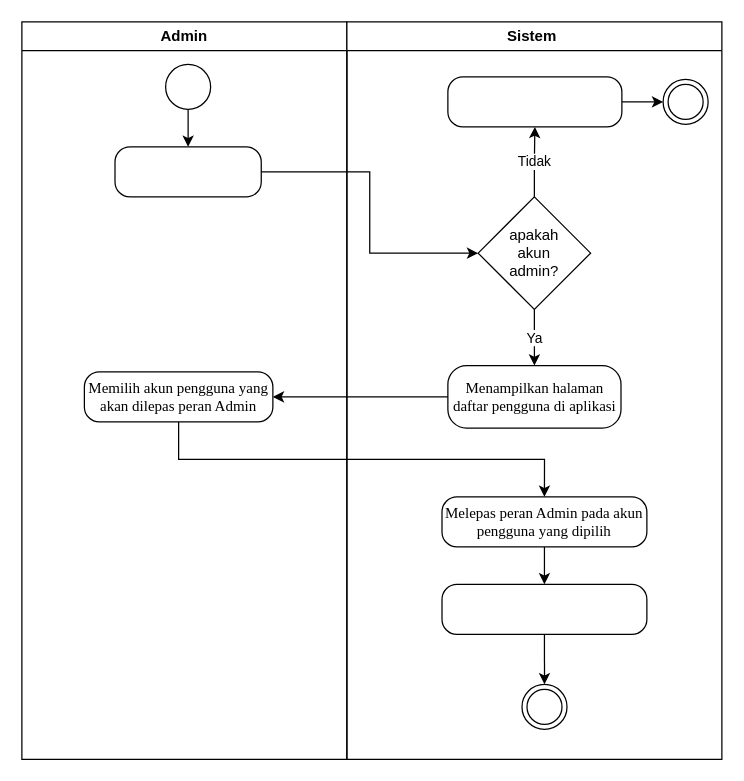
Some shapes in this 744 by 781 pixel diagram are drawn without their labels. The shapes that lost their labels are listed below. From the top down, each one's centre as x and y in pixels, then its label:
point (534, 101): Menampilkan Halaman "403 - Forbidden"
point (187, 171): Memilih Menu Pengguna
point (544, 608): Menampilkan Notifikasi Sukses
